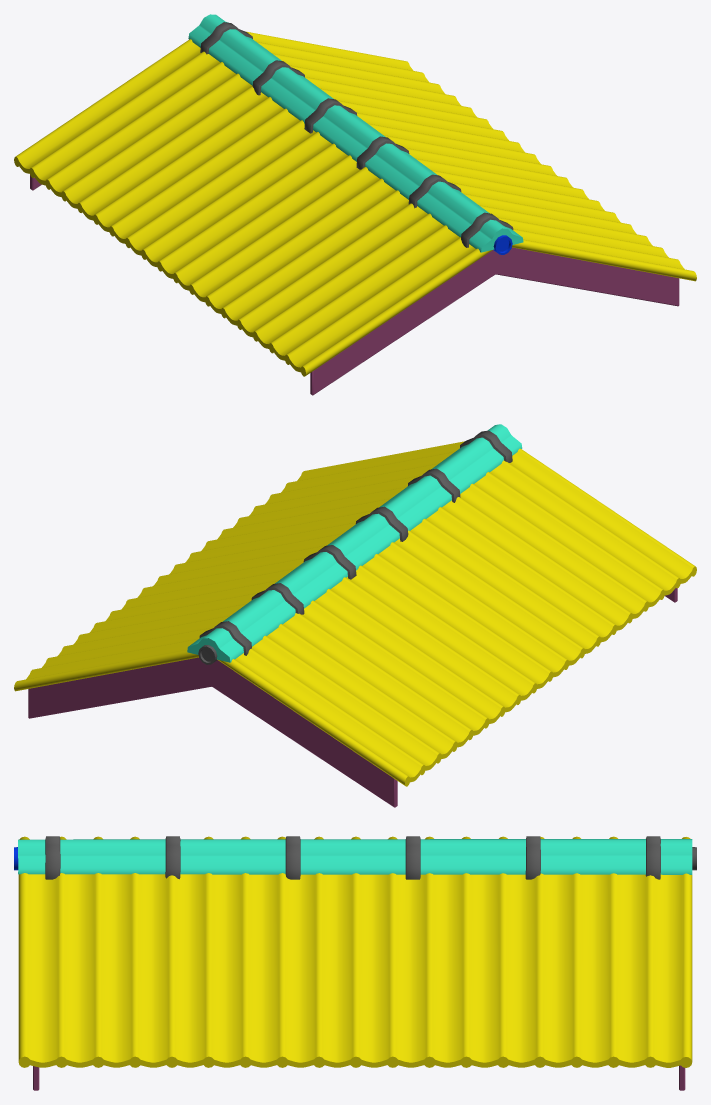
The model's file is roof.fbx.
3 renders of one model, top to bottom at view 1: azimuth 30°, elevation 25°; view 2: azimuth 150°, elevation 25°; view 3: azimuth 270°, elevation 25°, orthographic. The views are drawn at different scales.
Parts seen in each view (by area): view 1: low219, low149, low137; view 2: low219, low149, low137; view 3: low219, low149, low9011, low9010, low136, low9009, low9012, low9013.
Boxes of the visible parts, box(x1,y1,x2,y2) form: low219: box(14, 31, 696, 376); low149: box(188, 14, 523, 252); low137: box(30, 175, 679, 395); low219: box(14, 441, 696, 786); low149: box(187, 424, 522, 662); low137: box(28, 588, 677, 807); low219: box(18, 836, 692, 1067); low149: box(18, 839, 692, 874); low9011: box(405, 836, 420, 879); low9010: box(285, 836, 300, 879); low136: box(45, 836, 60, 879); low9009: box(165, 836, 180, 879); low9012: box(525, 836, 540, 879); low9013: box(645, 836, 660, 879).
Bounding box in the file's own units: 0.2917 × 0.0929 × 0.3826.
